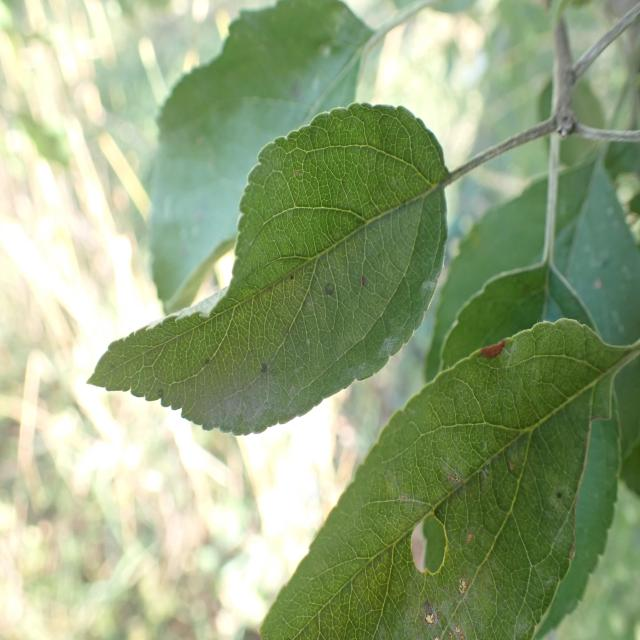Black Rot: (377, 495, 488, 585), (462, 310, 526, 369)
Powdery_mildew: (319, 346, 629, 640), (80, 113, 87, 115)
